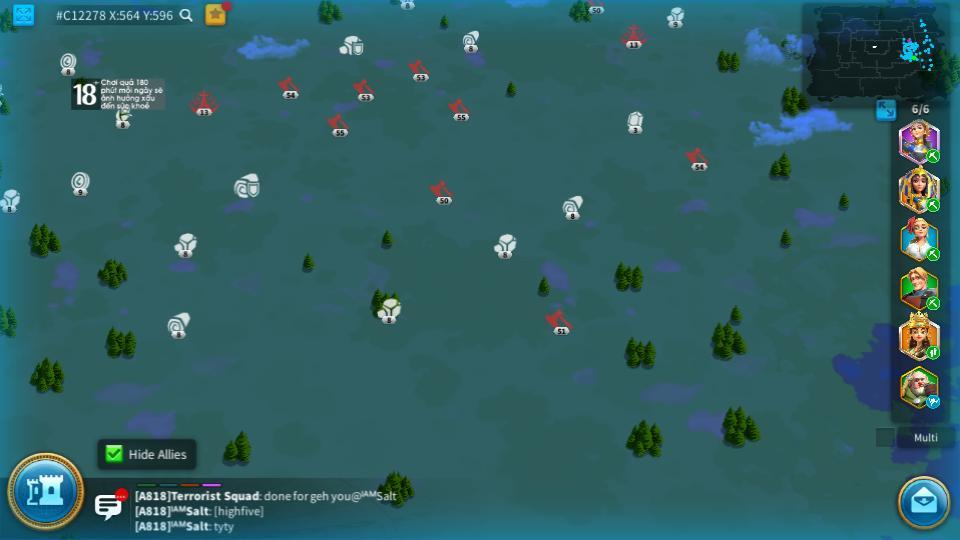gem-z-out: (626, 111, 645, 133)
march_idle: (925, 394, 942, 408)
march_marching: (925, 197, 941, 212), (925, 347, 942, 359), (925, 150, 941, 162), (925, 297, 942, 308)
